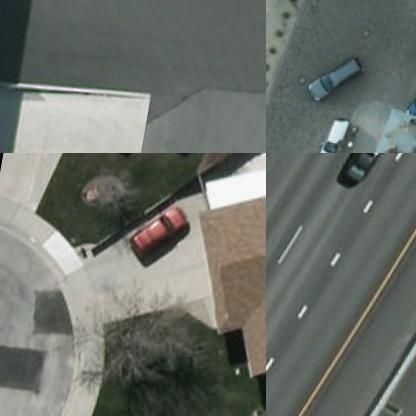car: (115, 202, 186, 270), (304, 56, 361, 114), (338, 153, 394, 197), (314, 116, 352, 152), (399, 79, 415, 130)
